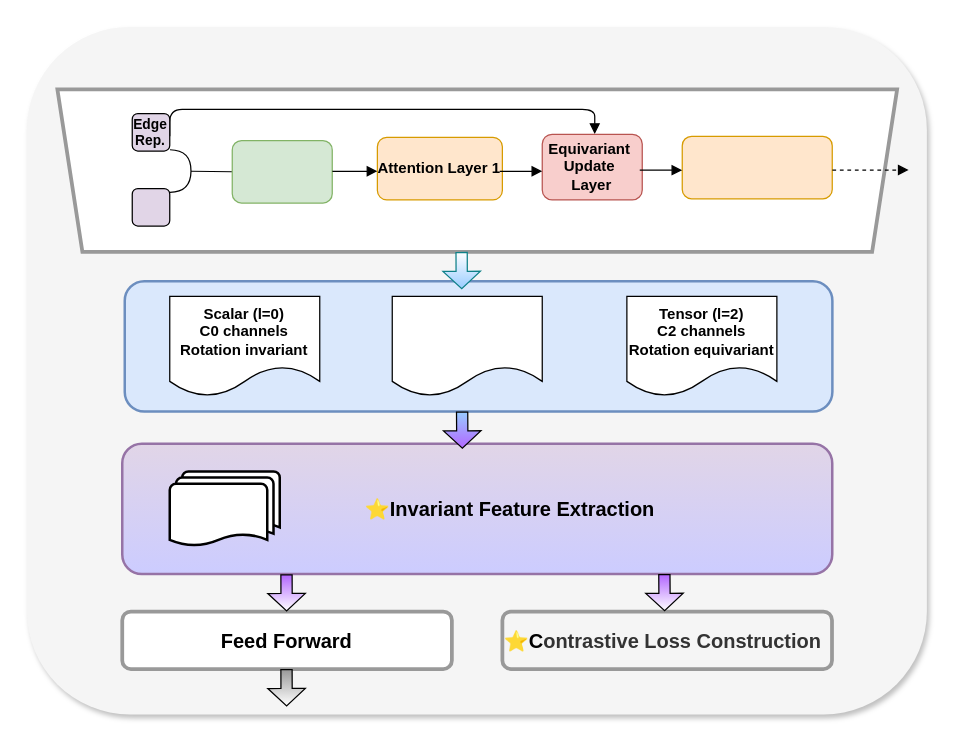
This 955x744 diagram has some shape labels left out. The centre of each missing label's shape, as x and y in pixels:
"Attention Layer 2 & 3" belongs at [756,167].
"Embedding Layer" belongs at [281,171].
"Node Rep." belongs at [150,206].
"Vector (l=1) C1 channels Rotation equivariant" belongs at [466,345].
